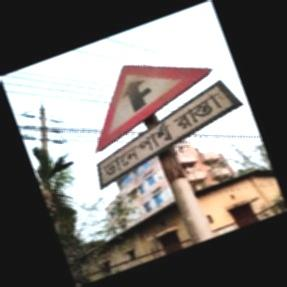Side-road-right: (93, 64, 236, 196)
